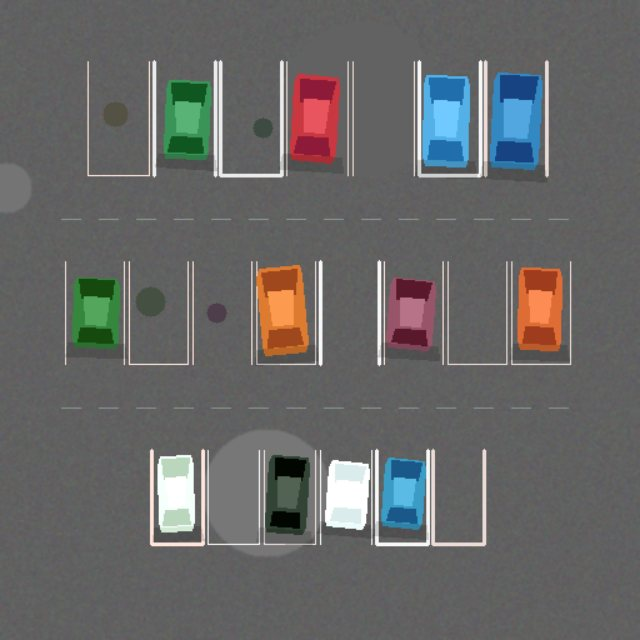space-empty: (87, 61, 149, 175), (220, 61, 281, 175), (353, 61, 414, 175), (320, 261, 379, 364), (447, 261, 506, 364), (129, 261, 187, 364), (193, 261, 251, 364), (432, 450, 484, 544), (208, 450, 259, 544)
space-occupied: (154, 61, 215, 175), (286, 61, 347, 175), (419, 61, 480, 175), (485, 61, 546, 175), (65, 261, 124, 364), (256, 261, 315, 364), (384, 261, 443, 364), (511, 261, 570, 364), (376, 450, 428, 544), (151, 450, 202, 544), (264, 450, 315, 544), (320, 450, 371, 544)
